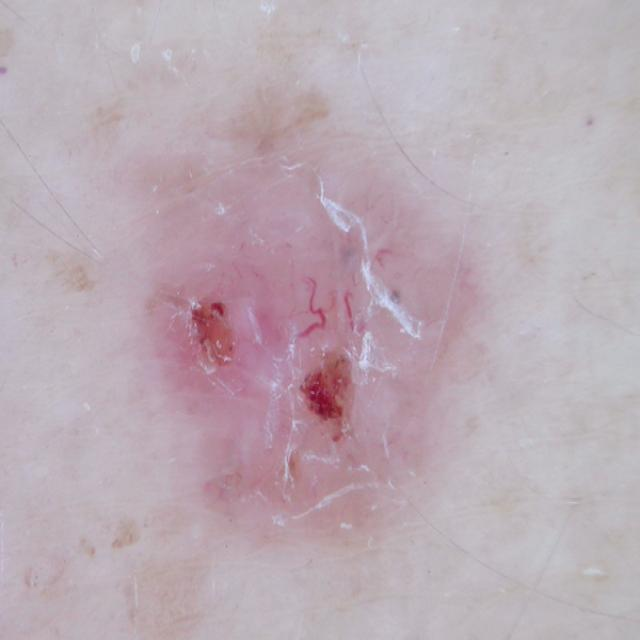Skin-Cancer Basal cell carcinoma: (42, 36, 512, 601)
